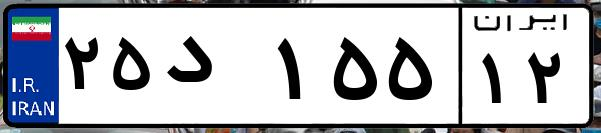1: (270, 28, 330, 110), (475, 38, 525, 113)
2: (57, 26, 110, 100), (525, 38, 570, 115)
5: (385, 28, 445, 110), (330, 28, 385, 110), (110, 28, 158, 98)
د: (158, 20, 270, 120)
